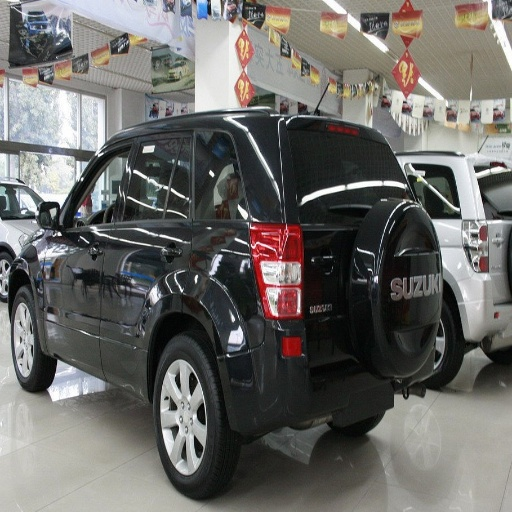back_glass: (192, 130, 240, 162)
back_left_door: (101, 157, 155, 354)
